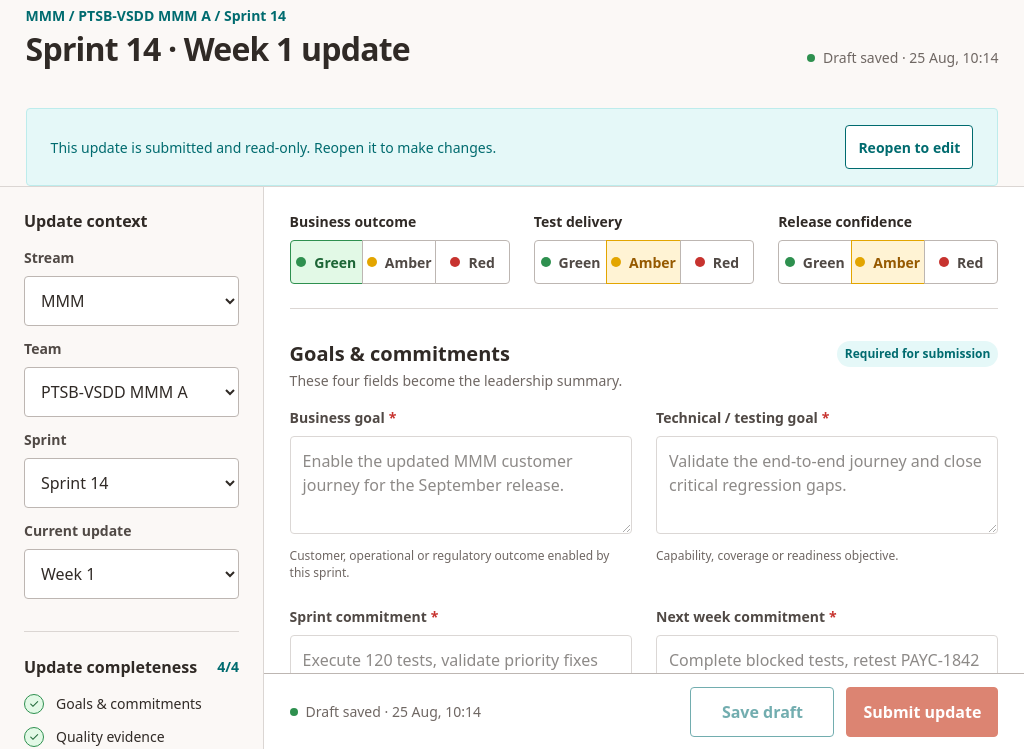
TeamUpdatePage save failure › never shows a success message after a failed save
The width and height of the screenshot is (1024, 749).
Expected: the heading "Sprint 14 · Week 1 update" is shown, [26,30,410,68]
Select "PTSB-VSDD MMM B" in the dropdown labelled "Team": (132, 392) [24,367,239,417]
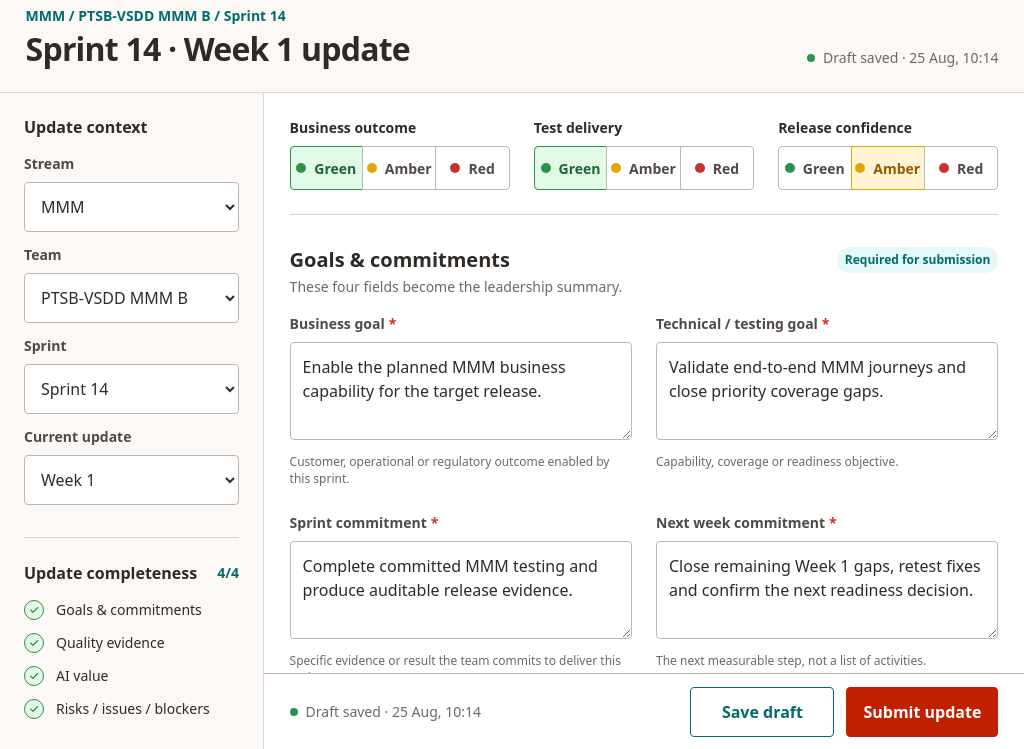
Select "Week 2" in the dropdown labelled "Current update": (132, 480) [24,455,239,505]
(page scrolled)
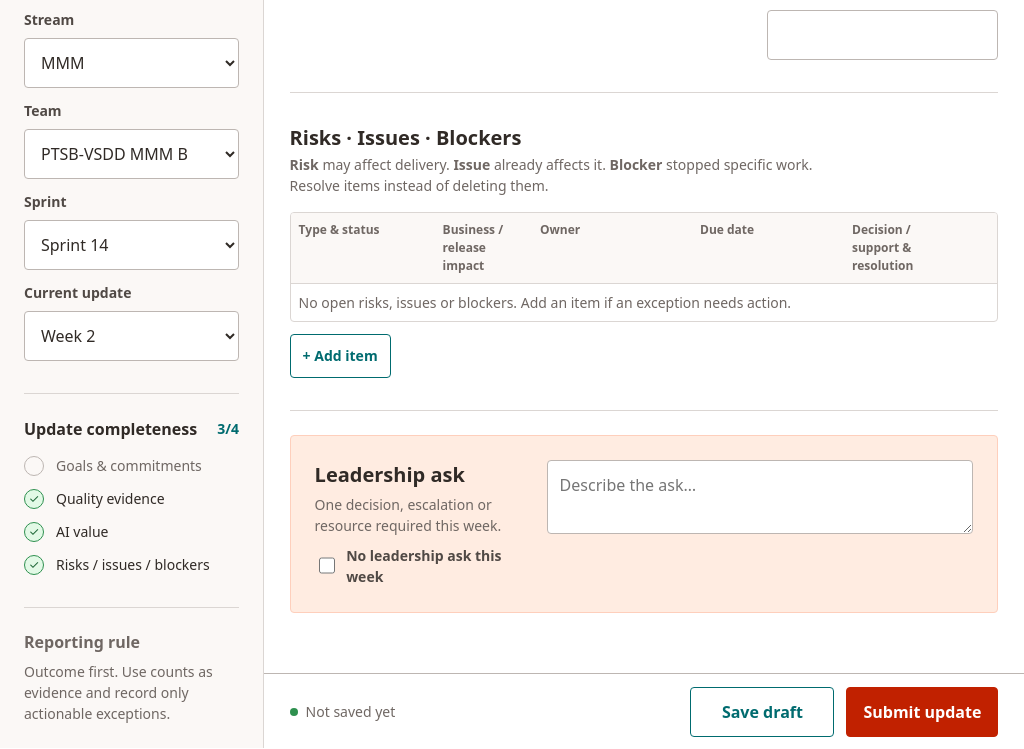
Now the text box named "Leadership ask" is enabled
In the text box named "Leadership ask": (760, 497) [547,460,973,534], type "Please #failsave this one"
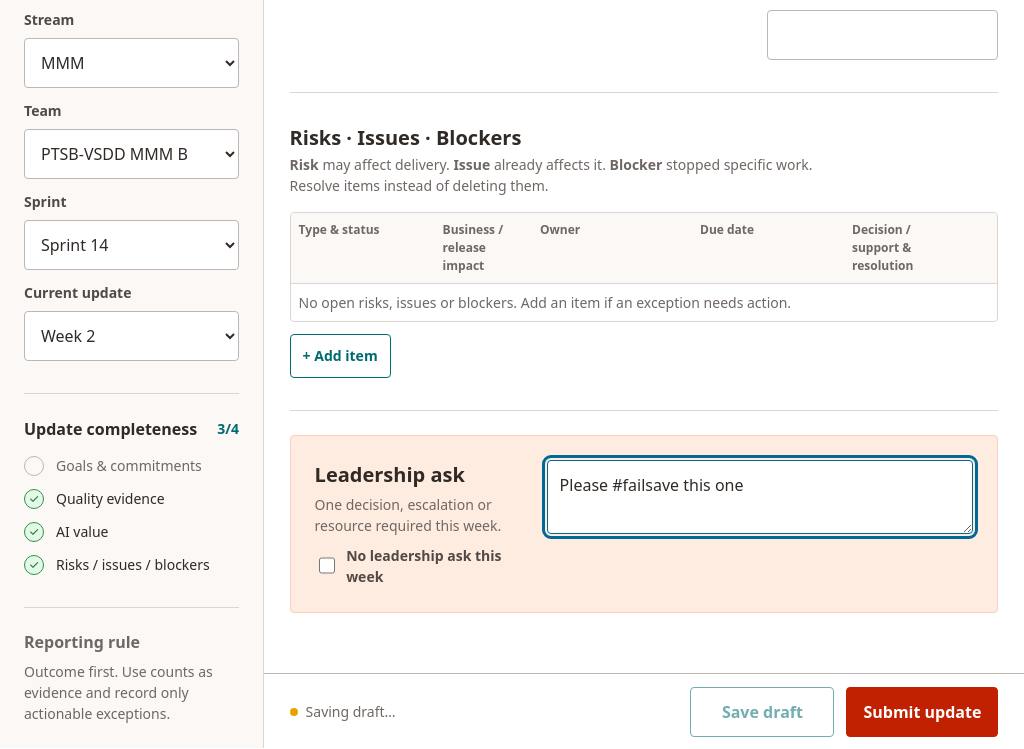
Click the button "Save draft": (762, 712) [690,686,834,736]
(page scrolled)
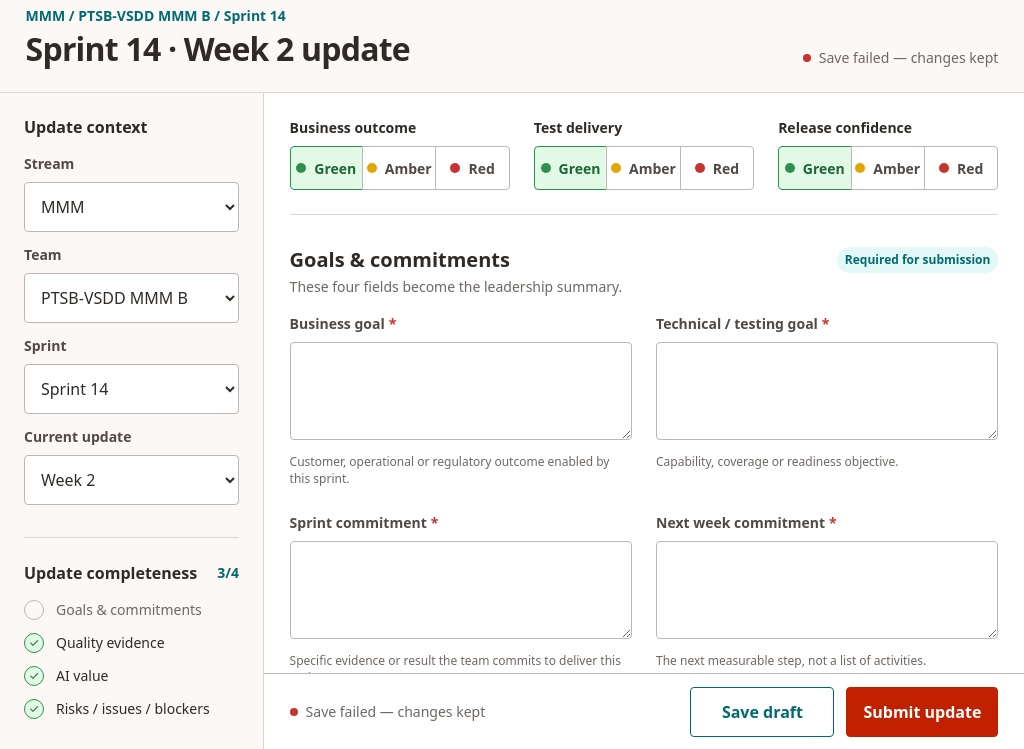
Now the text "Save failed — changes kept" is shown, box [803,47,998,68]
